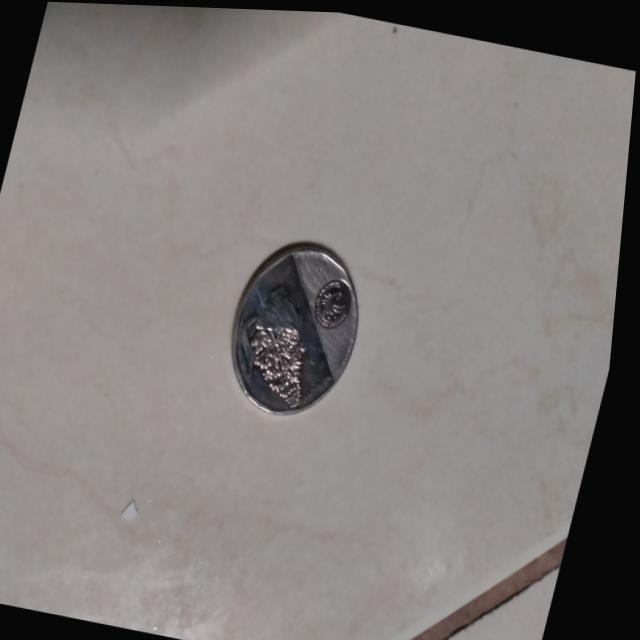10_New_Back: (232, 257, 369, 415)
